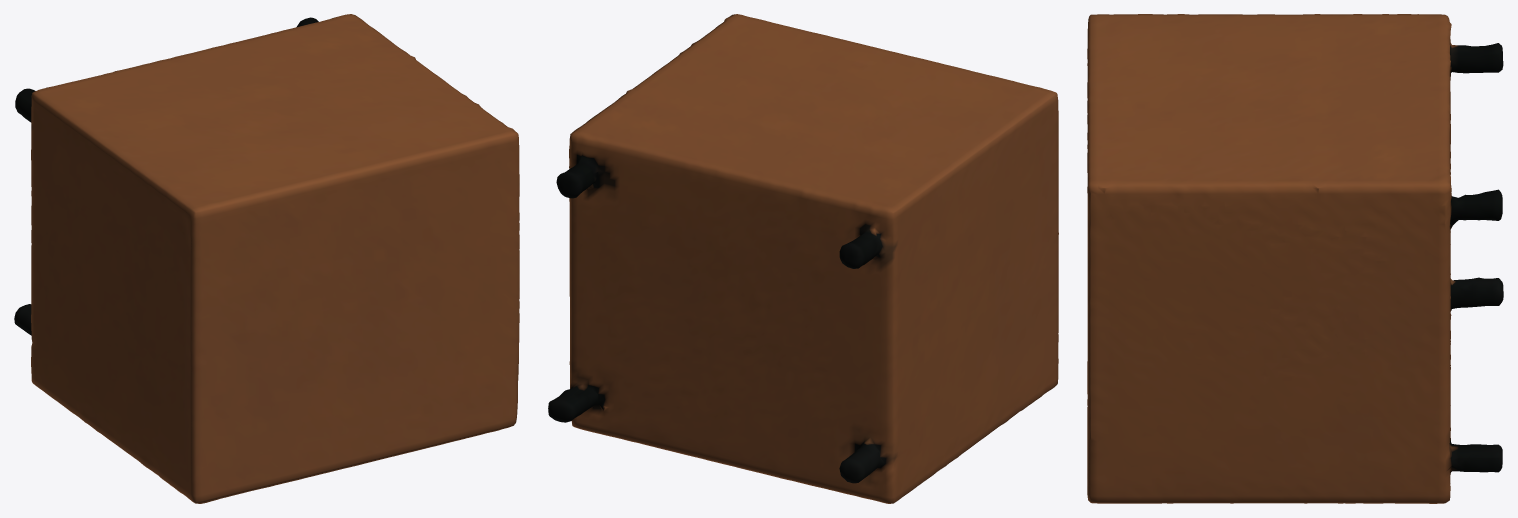
Rendered from a storage furniture with affordances of contain, open .obj.
3 renders of one model, left to right at view 1: azimuth 30°, elevation 25°; view 2: azimuth 150°, elevation 25°; view 3: azimuth 270°, elevation 25°, orthographic. The views are drawn at different scales.
Bounding box in the file's own units: 0.9984 × 0.864 × 1.01.
